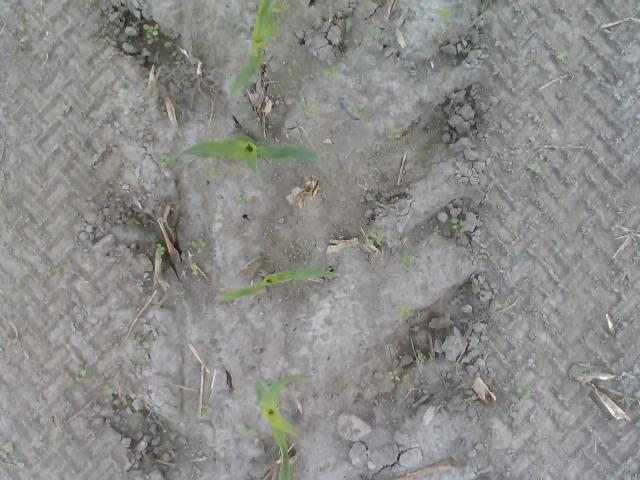Maize: (178, 130, 322, 176), (253, 373, 310, 480), (230, 0, 279, 96), (215, 266, 338, 302)
Weeds: (272, 3, 290, 34), (320, 58, 344, 80), (436, 0, 454, 28), (366, 227, 384, 248), (142, 22, 160, 42), (136, 328, 154, 348), (238, 421, 259, 438), (395, 304, 414, 322), (128, 352, 152, 366), (367, 24, 385, 42), (0, 441, 16, 461), (224, 160, 244, 176), (516, 383, 534, 400), (320, 144, 338, 161), (75, 367, 92, 384), (354, 104, 370, 122), (190, 238, 209, 253), (448, 217, 465, 233), (527, 160, 544, 176), (198, 403, 216, 418), (354, 32, 369, 50), (400, 255, 414, 274), (506, 406, 522, 422), (384, 127, 402, 141), (32, 436, 49, 450), (160, 154, 177, 168), (387, 369, 402, 383), (238, 194, 257, 205), (202, 165, 218, 178), (622, 394, 636, 408), (607, 224, 619, 240), (5, 334, 18, 348), (100, 383, 114, 396), (302, 103, 320, 112), (414, 352, 426, 365), (556, 50, 568, 62), (232, 391, 245, 402), (632, 0, 640, 17), (430, 225, 442, 236), (477, 249, 488, 261), (117, 82, 129, 93), (384, 411, 402, 418), (191, 262, 200, 276), (498, 303, 510, 313), (512, 230, 522, 241), (337, 20, 348, 30), (479, 0, 488, 12), (59, 104, 71, 113), (120, 397, 132, 406), (468, 278, 478, 288), (462, 395, 472, 405), (288, 239, 296, 251), (159, 244, 167, 256), (102, 35, 111, 44), (374, 282, 384, 290), (21, 420, 30, 428), (128, 219, 140, 225), (136, 180, 144, 189), (133, 412, 143, 418)
